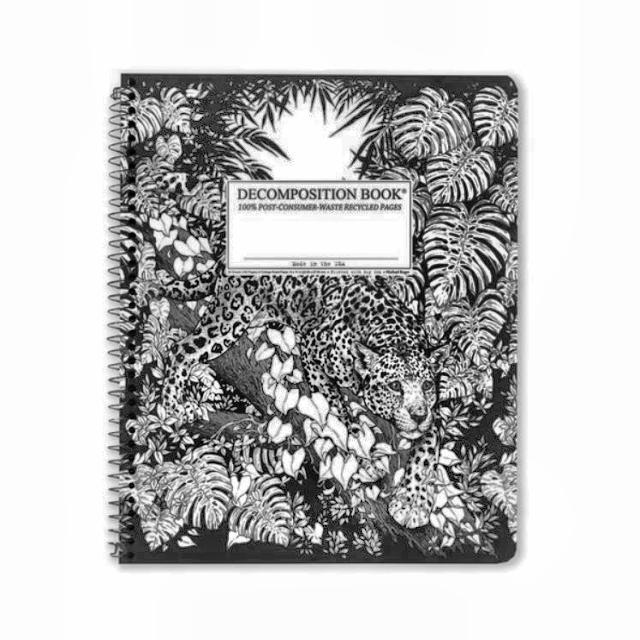Notebook: (89, 52, 526, 594)
